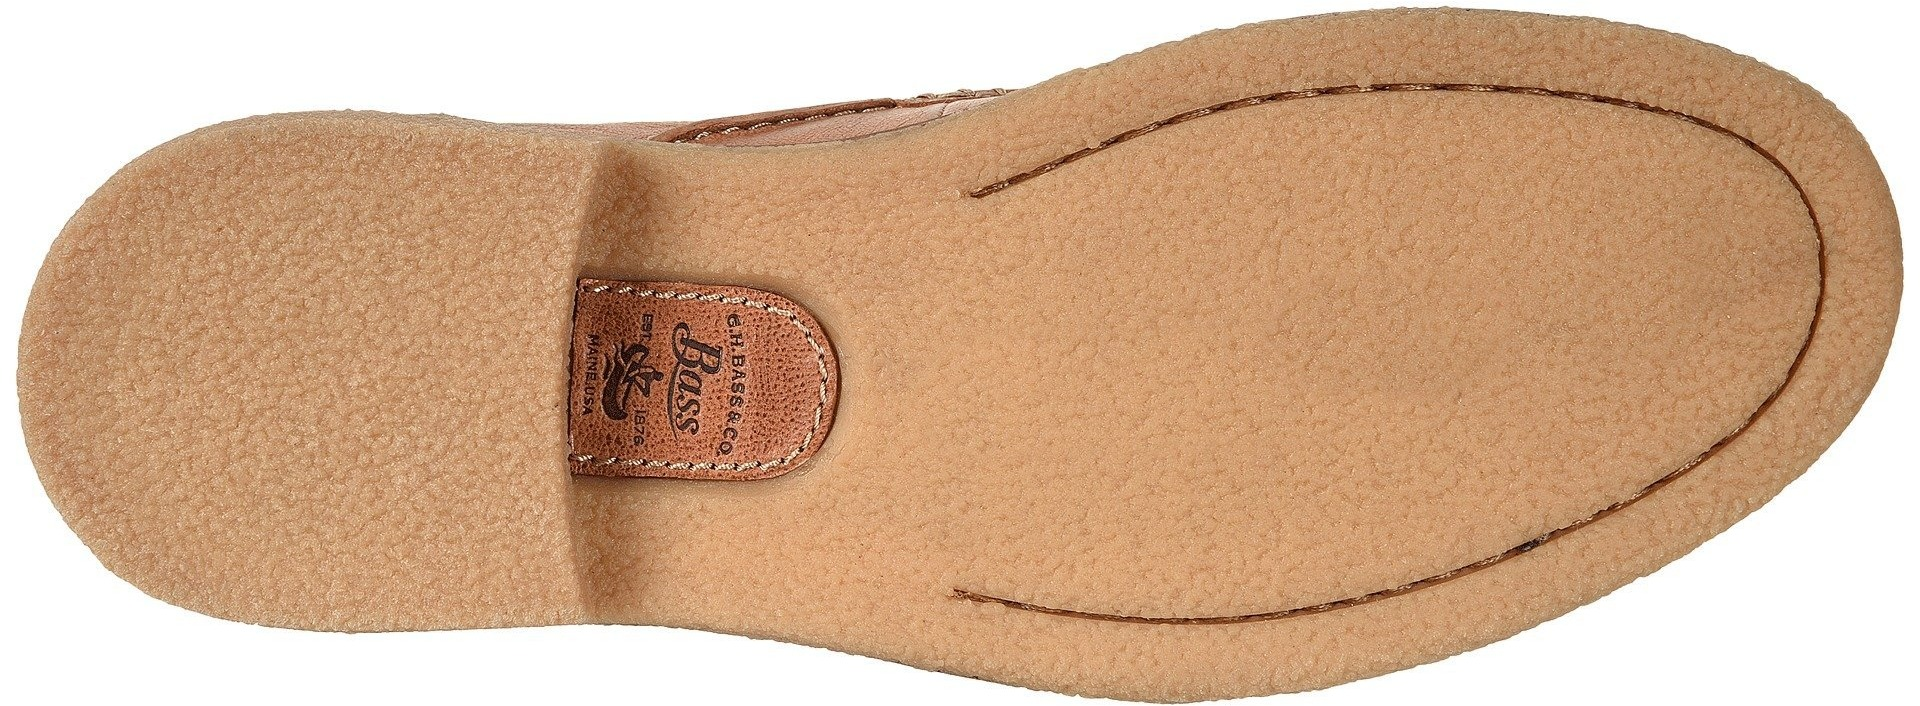other: (1269, 104, 1625, 499), (972, 210, 1262, 489), (315, 135, 572, 396), (62, 243, 309, 492), (313, 401, 558, 617), (1633, 196, 1806, 374)
